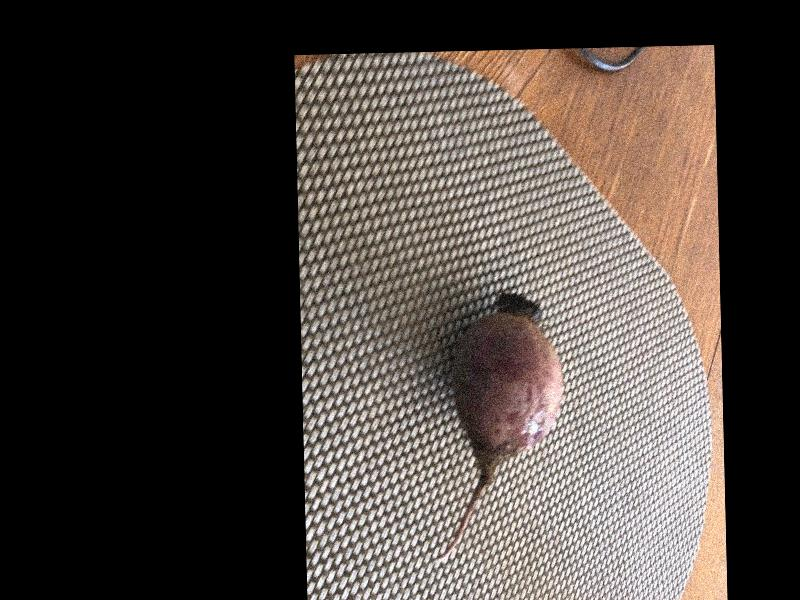Beet: (426, 290, 566, 563)
